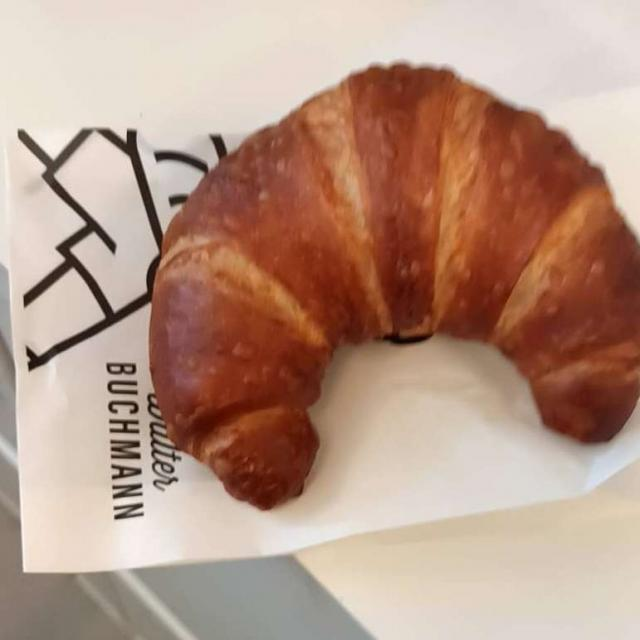croissant: (156, 73, 632, 502)
